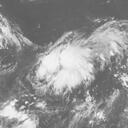cyclone: (29, 41, 94, 95)
